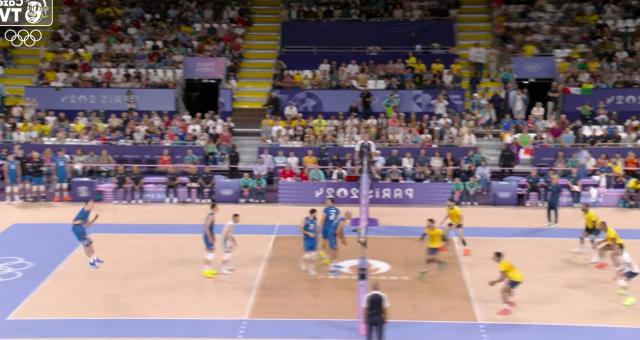Levantador: (417, 218, 448, 282)
Libero: (613, 242, 639, 308), (218, 214, 240, 278)
bola: (166, 161, 177, 176)
